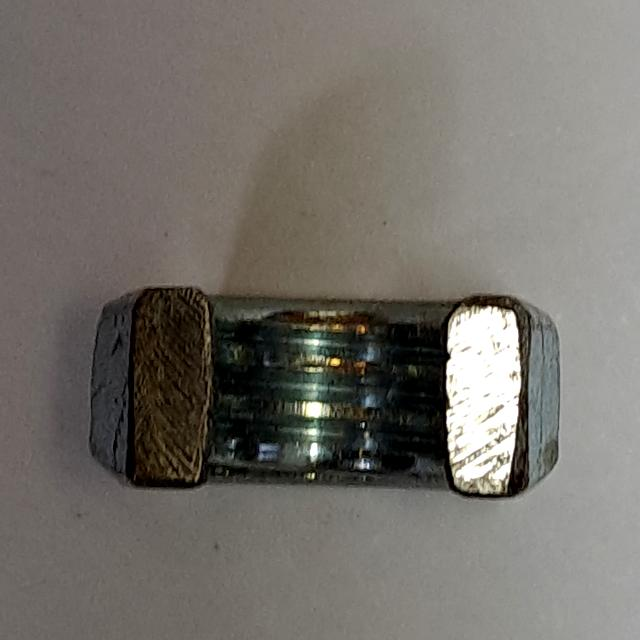Side-Fracture: (70, 271, 575, 516)
